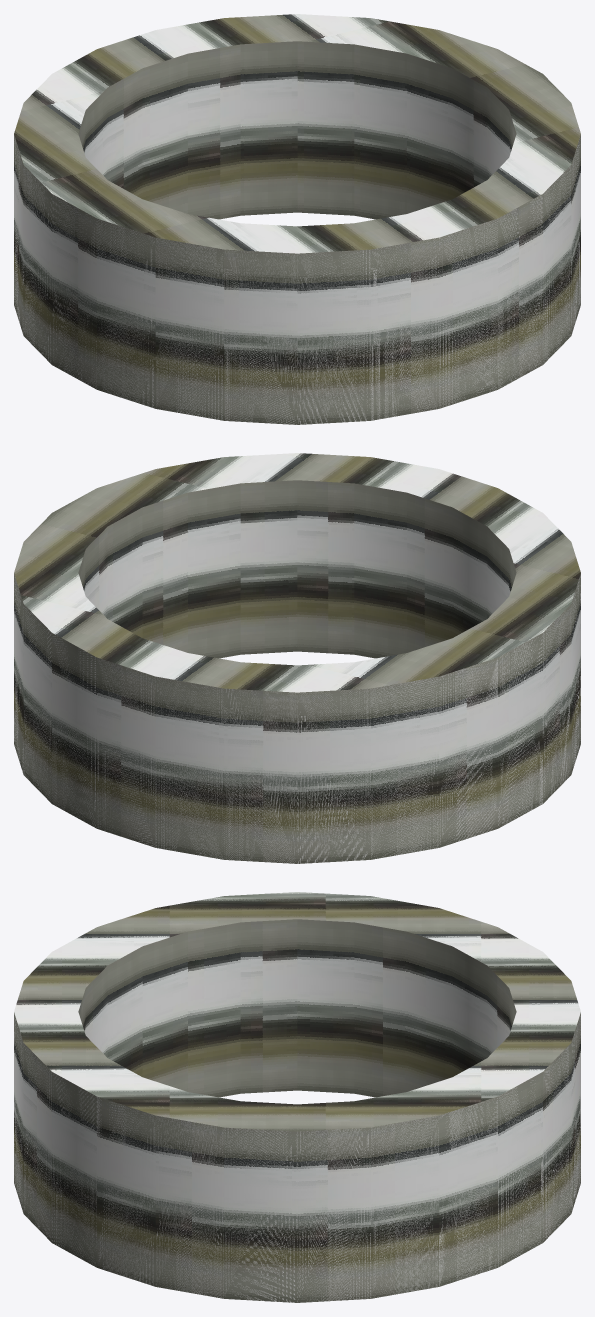
Rendered from original-1.obj.
3 views of the same model, one above another, from view 1: azimuth 30°, elevation 25°; view 2: azimuth 150°, elevation 25°; view 3: azimuth 270°, elevation 25° (orthographic).
Visible parts, largest first — view 1: Group1/mesh1/mesh1-geometry#mesh1-geometry; view 2: Group1/mesh1/mesh1-geometry#mesh1-geometry; view 3: Group1/mesh1/mesh1-geometry#mesh1-geometry.
Boxes of the visible parts, x1,y1,x2,y2 form: Group1/mesh1/mesh1-geometry#mesh1-geometry: (14, 14, 580, 424); Group1/mesh1/mesh1-geometry#mesh1-geometry: (14, 453, 580, 863); Group1/mesh1/mesh1-geometry#mesh1-geometry: (14, 892, 580, 1302).
Size of the model in its own units: 0.3936 by 0.1312 by 0.3936.
